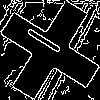I: (25, 25, 71, 61)
